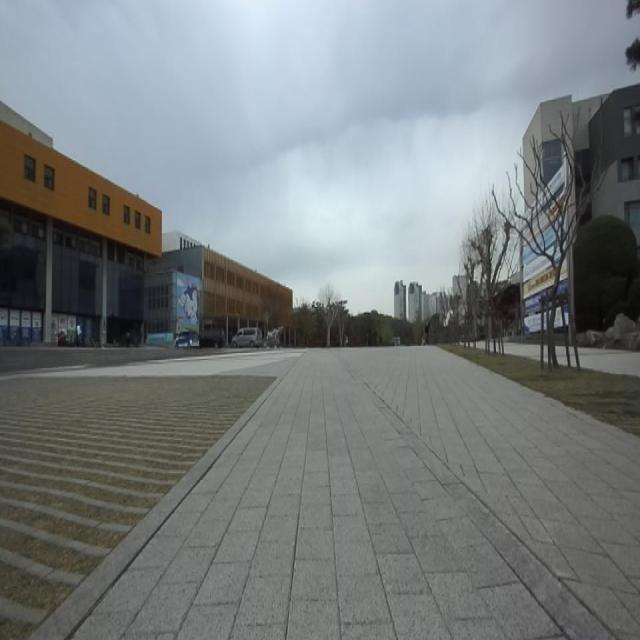sidewalk: (34, 353, 610, 639)
